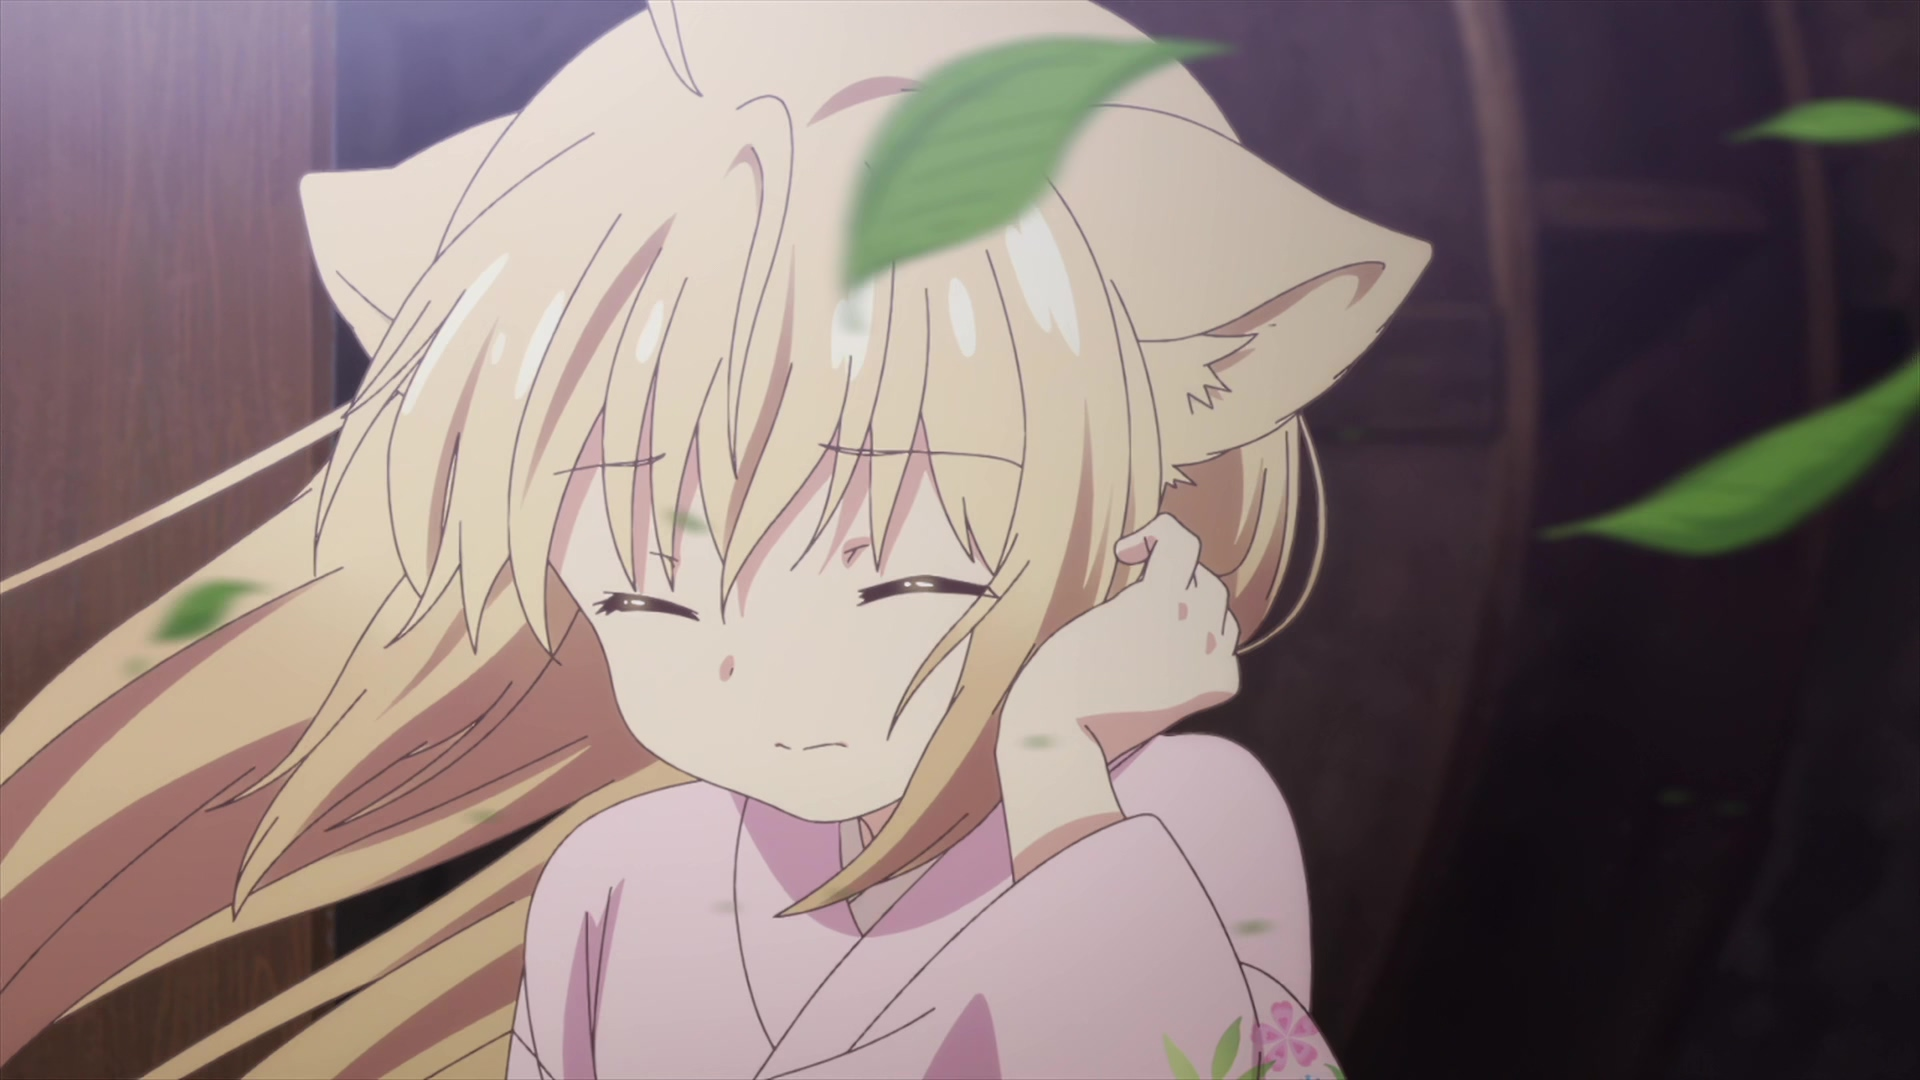柚: (1, 1, 1433, 1080)
